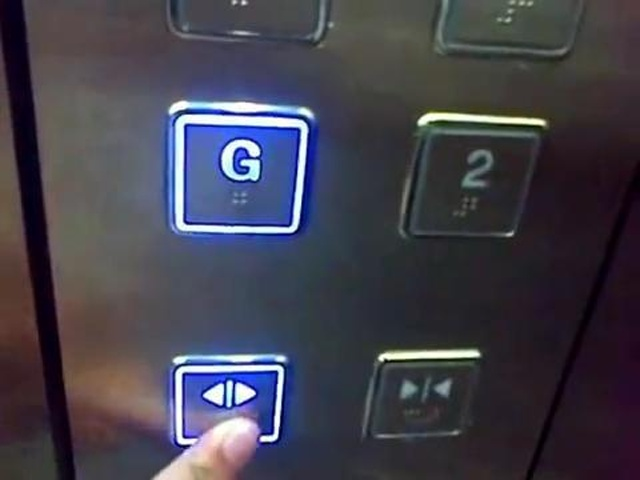2: (398, 112, 547, 242)
G: (165, 97, 317, 238)
close: (362, 350, 482, 443)
open: (167, 353, 287, 448)
